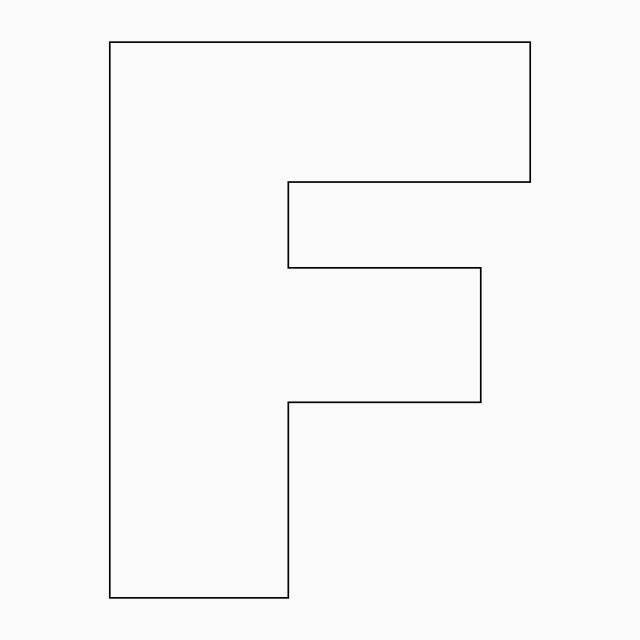F: (79, 21, 548, 619)
